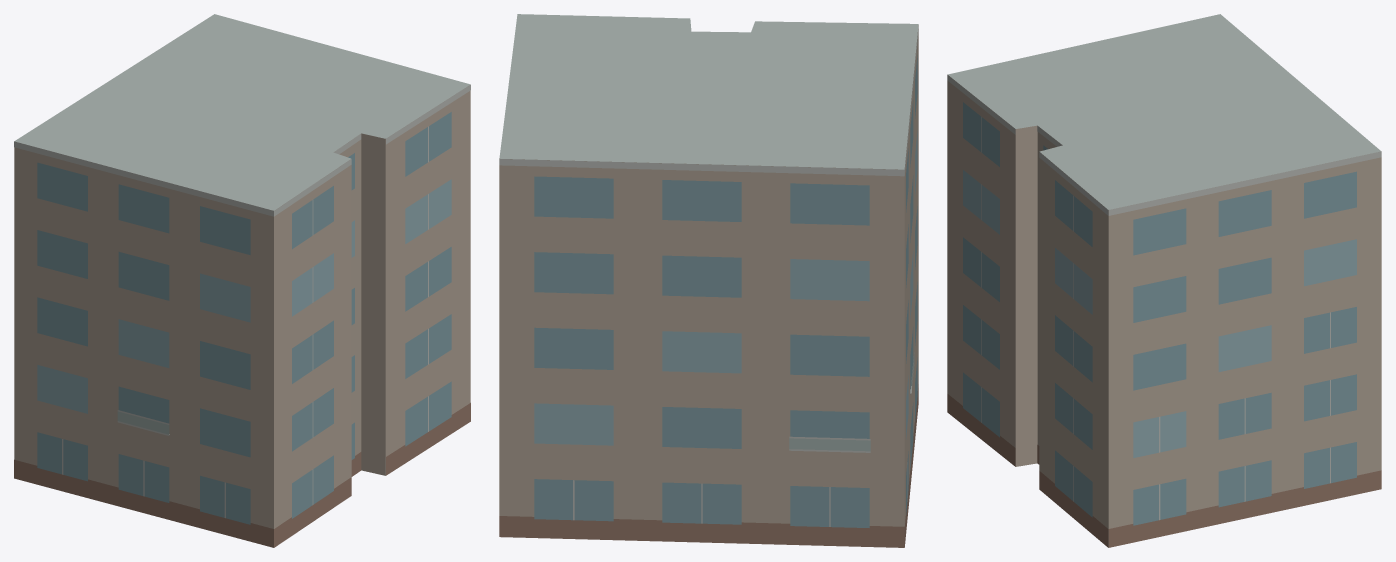
Rendered from survey-upis-32702230.glb.
The picture shows the model from 3 angles, left to right: view 1: azimuth 30°, elevation 25°; view 2: azimuth 150°, elevation 25°; view 3: azimuth 270°, elevation 25°; orthographic projection. The views are drawn at different scales.
Parts seen in each view (by area): view 1: survey-upis-32702230.tmp; view 2: survey-upis-32702230.tmp; view 3: survey-upis-32702230.tmp.
Boxes of the visible parts, x1,y1,x2,y2 form: survey-upis-32702230.tmp: (14,14,470,547); survey-upis-32702230.tmp: (499,14,918,547); survey-upis-32702230.tmp: (947,14,1381,547).
Bounding box in the file's own units: 17.31 × 13.9 × 16.19.
